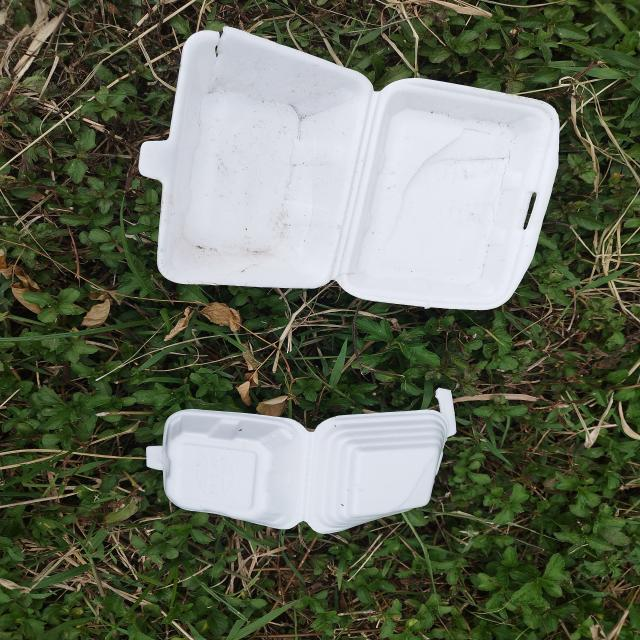foam box: (140, 27, 560, 312), (145, 388, 458, 534)
